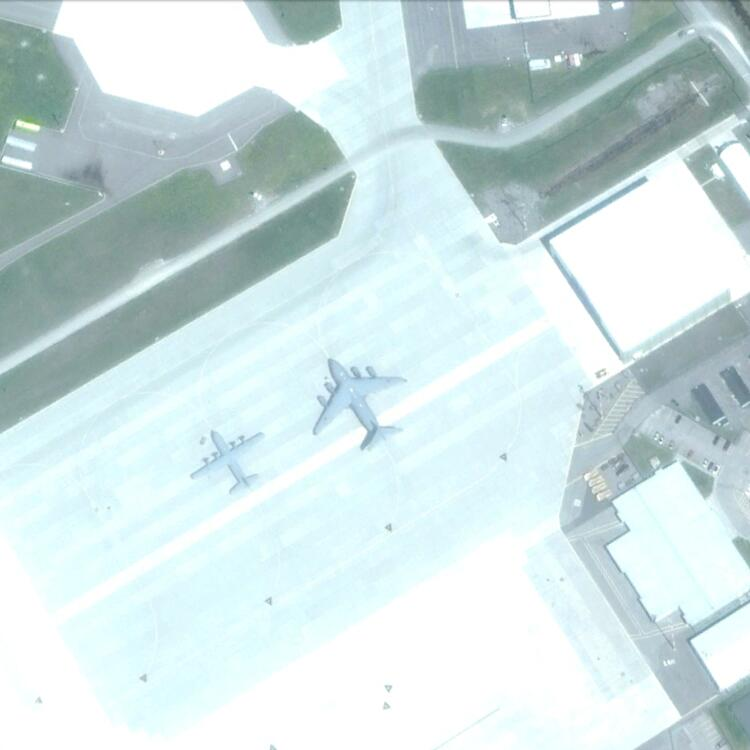A2: (183, 426, 276, 495)
A3: (310, 355, 408, 455)
